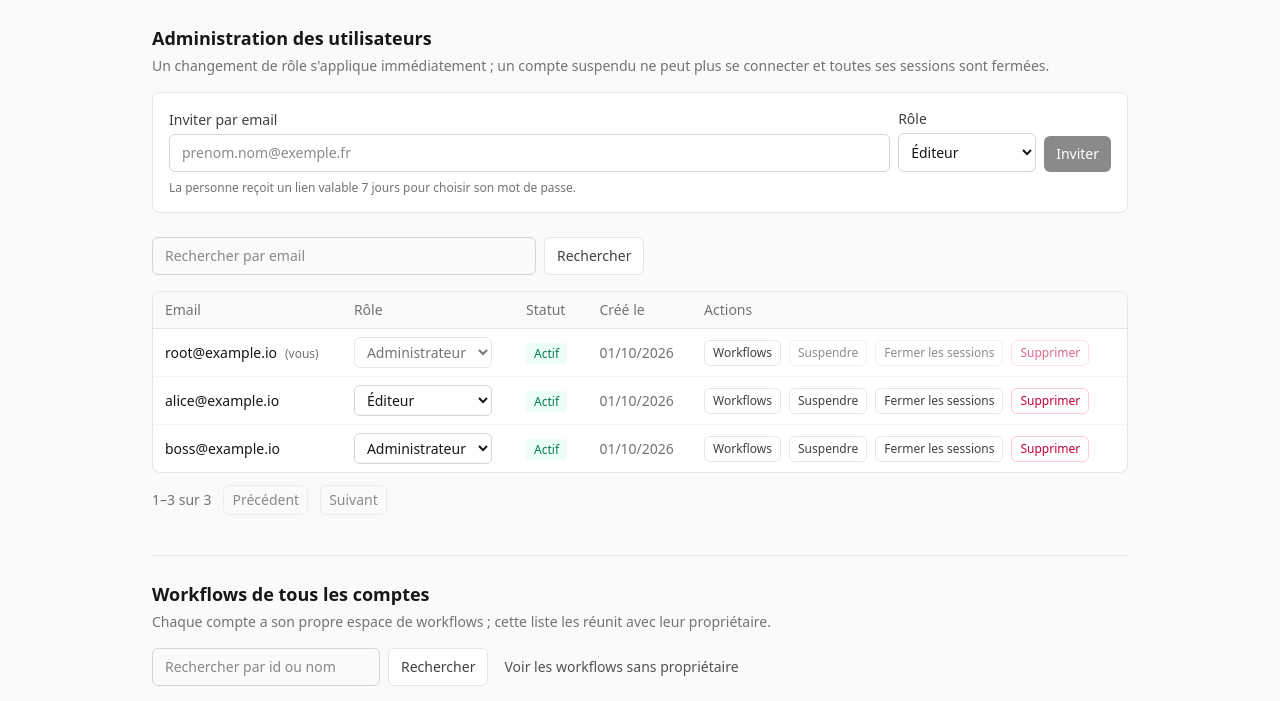
Test case: <AdminPanel /> › signale un email non parti et traduit les refus d'invitation
Check: the row that starts with "alice@example.io" is shown, box [153,376,1127,424]
Type "ivy@example.io" into the field labelled "Inviter par email" at point(530, 153), box [169,134,890,172]
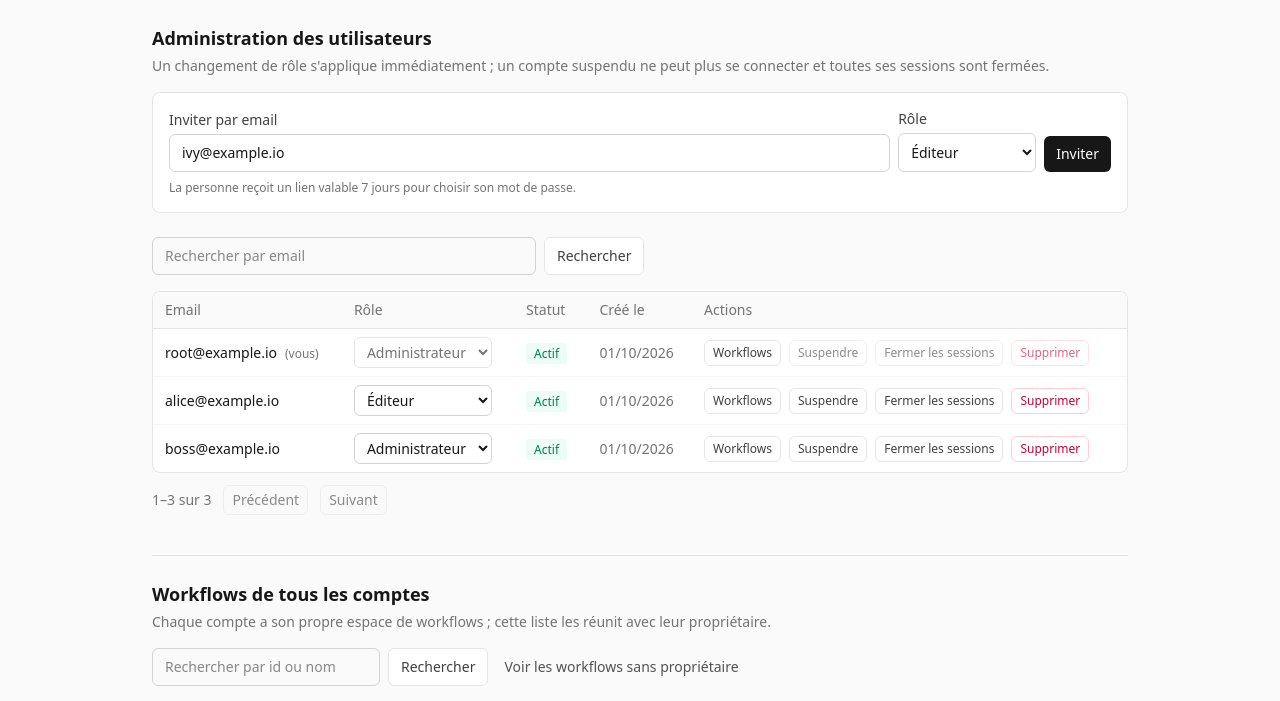
Click the button "Inviter" at point(1078, 154), box [1044,136,1111,172]
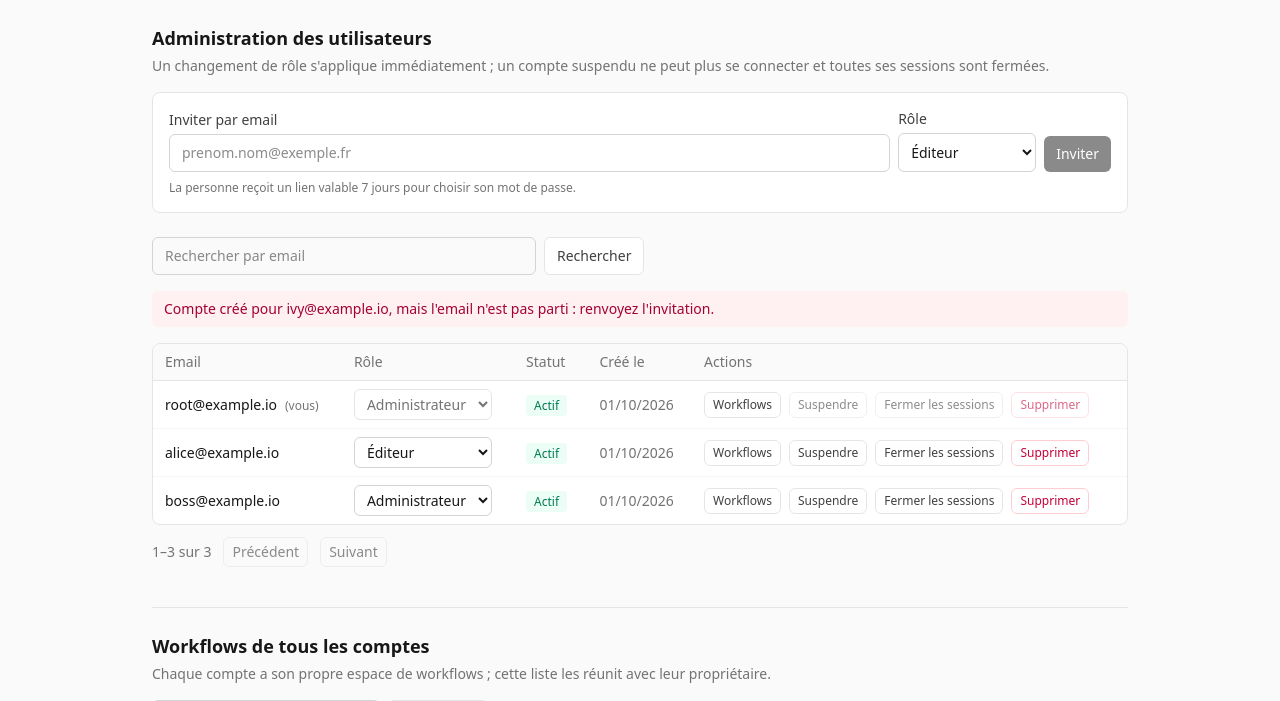
Check: the message shows "l'email n'est pas parti : renvoyez", box [164,299,714,318]
Type "alice@example.io" into the field labelled "Inviter par email" at point(530, 153), box [169,134,890,172]
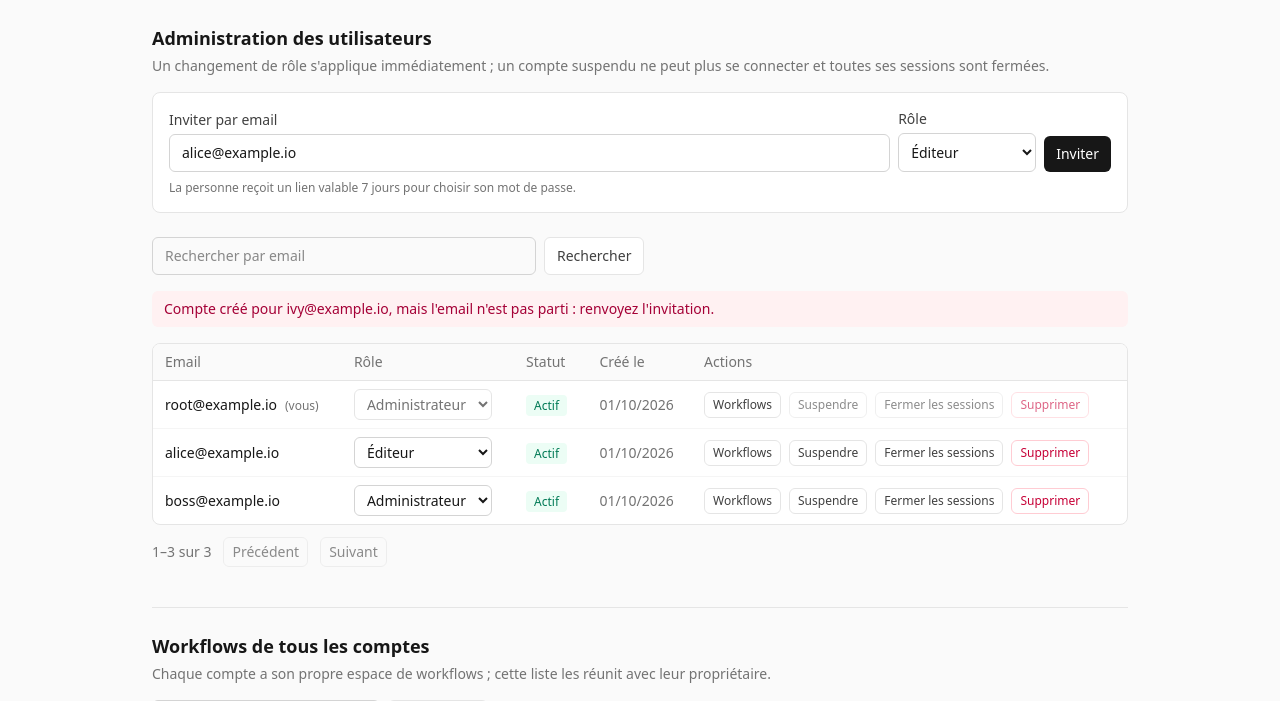
Click the button "Inviter" at point(1078, 154), box [1044,136,1111,172]
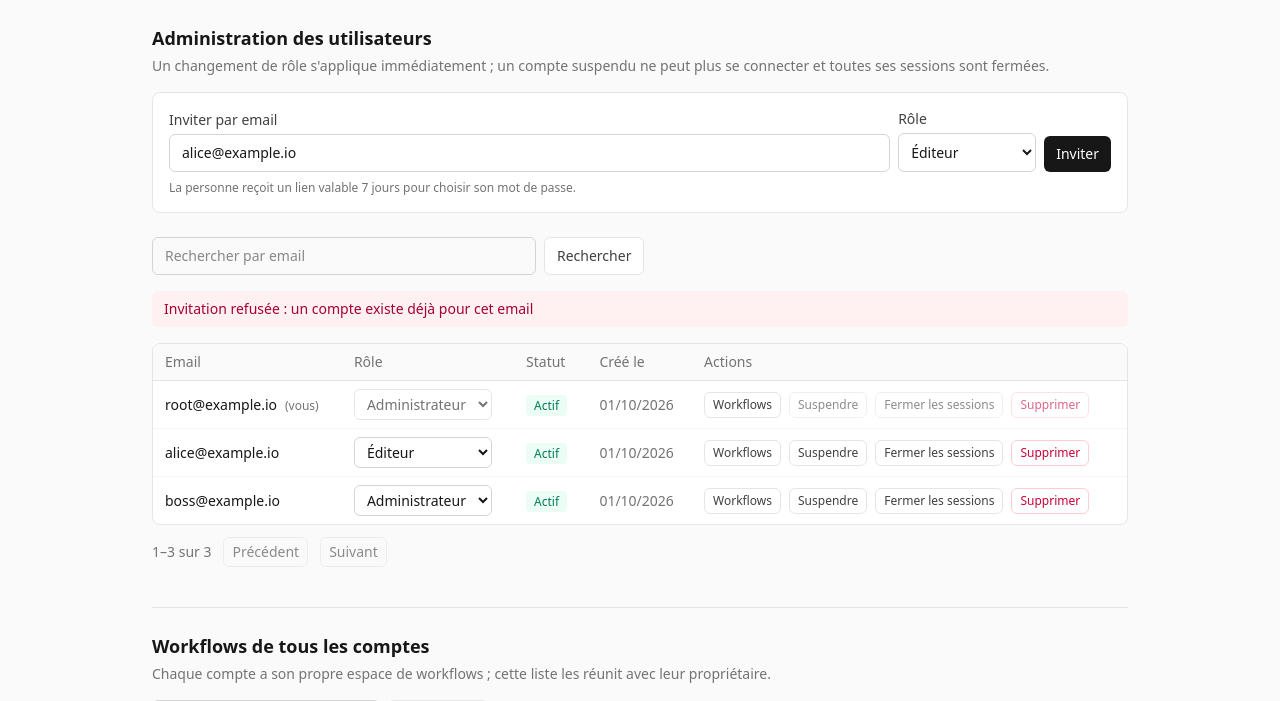
Check: the message shows "un compte existe déjà pour cet email", box [164,299,533,318]
Replace the text in the field labelled "Inviter par email" with "joe@example.io" at point(530, 153), box [169,134,890,172]
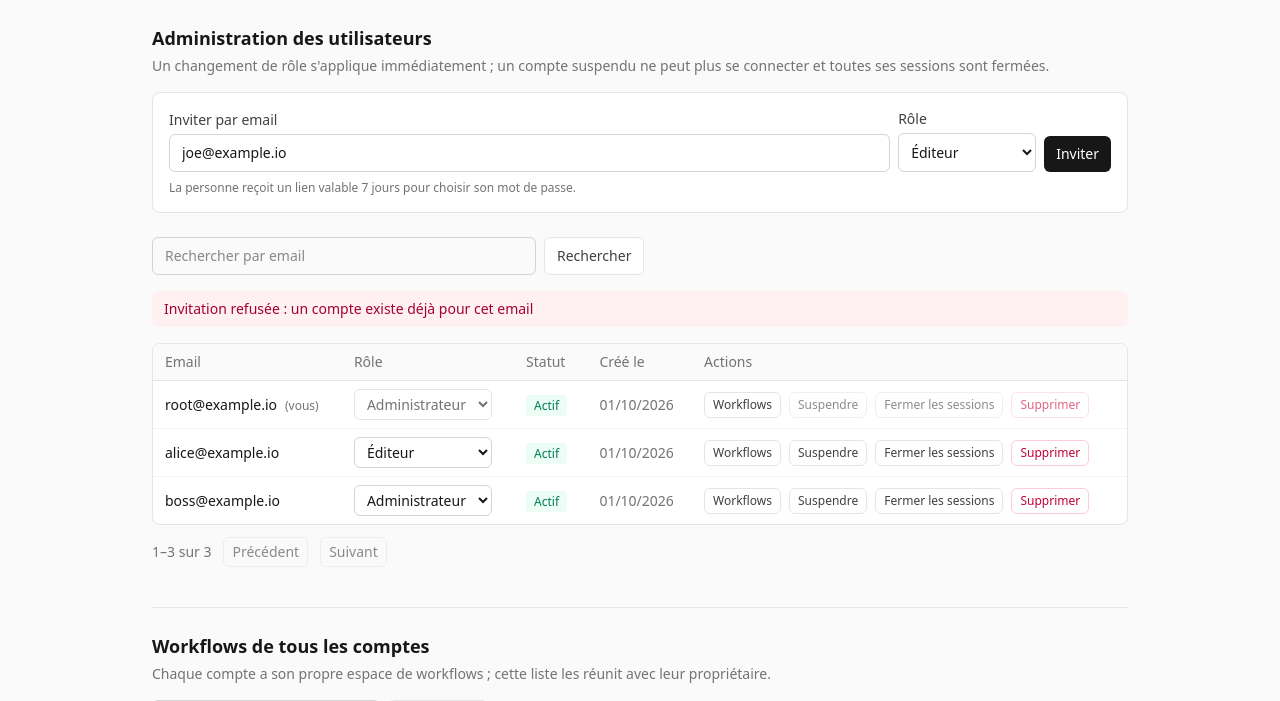
Click the button "Inviter" at point(1078, 154), box [1044,136,1111,172]
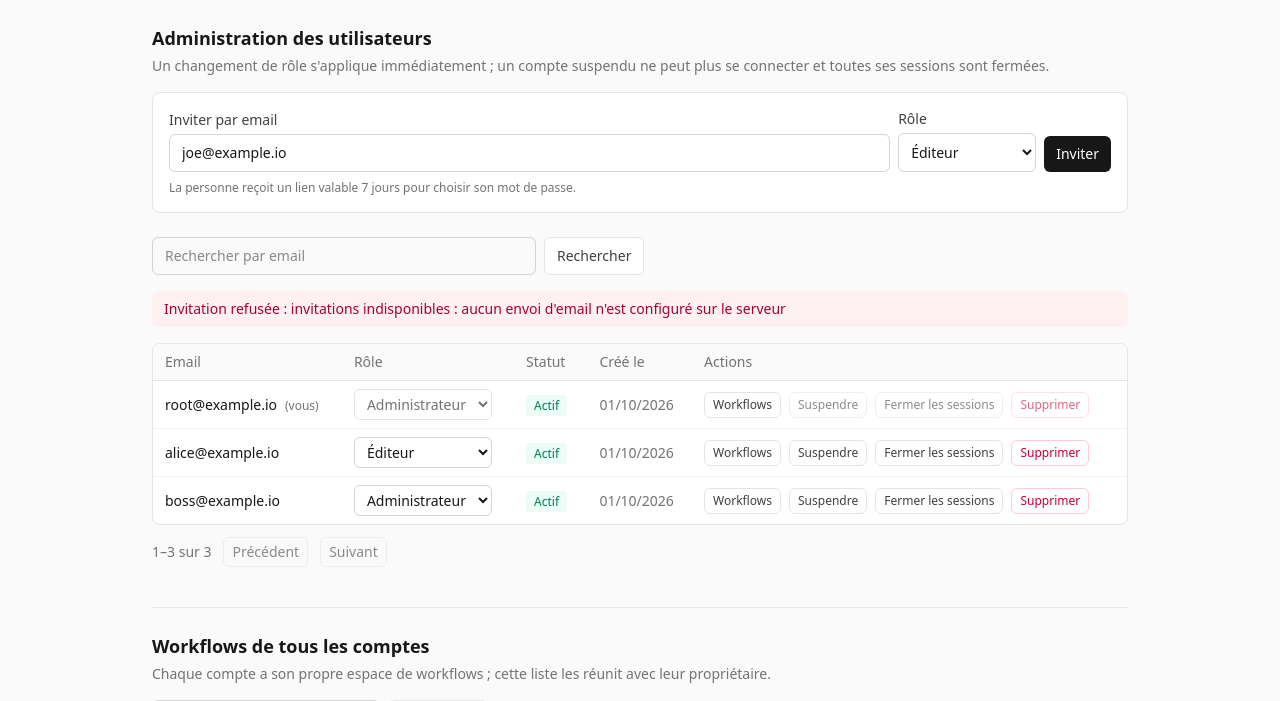
Check: the message shows "aucun envoi d'email", box [164,299,786,318]
